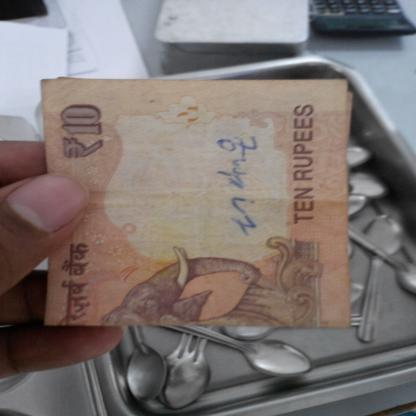Old10Back: (38, 76, 354, 331)
